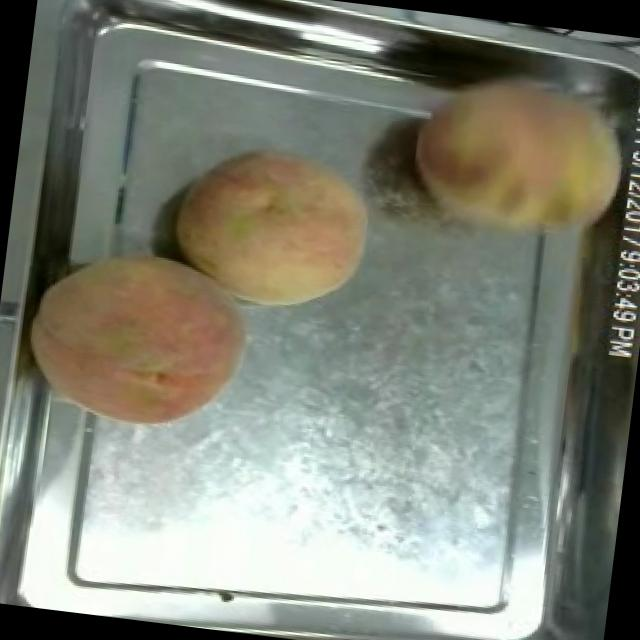Fruit: (13, 228, 264, 446), (395, 56, 640, 263), (162, 130, 388, 328)
